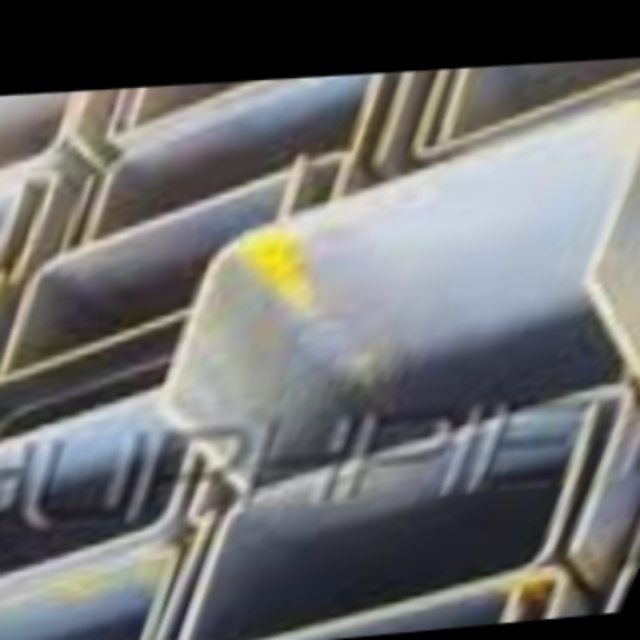Shveller: (165, 111, 640, 404), (185, 389, 640, 640), (159, 409, 608, 640), (4, 158, 348, 376), (0, 167, 303, 393), (85, 71, 416, 243), (0, 389, 237, 620), (0, 459, 191, 631), (166, 579, 571, 640), (418, 52, 640, 157), (112, 73, 395, 144), (137, 592, 530, 640), (437, 50, 640, 139), (0, 555, 175, 640), (0, 90, 101, 232), (136, 72, 411, 121), (0, 91, 82, 242), (0, 185, 52, 361)
